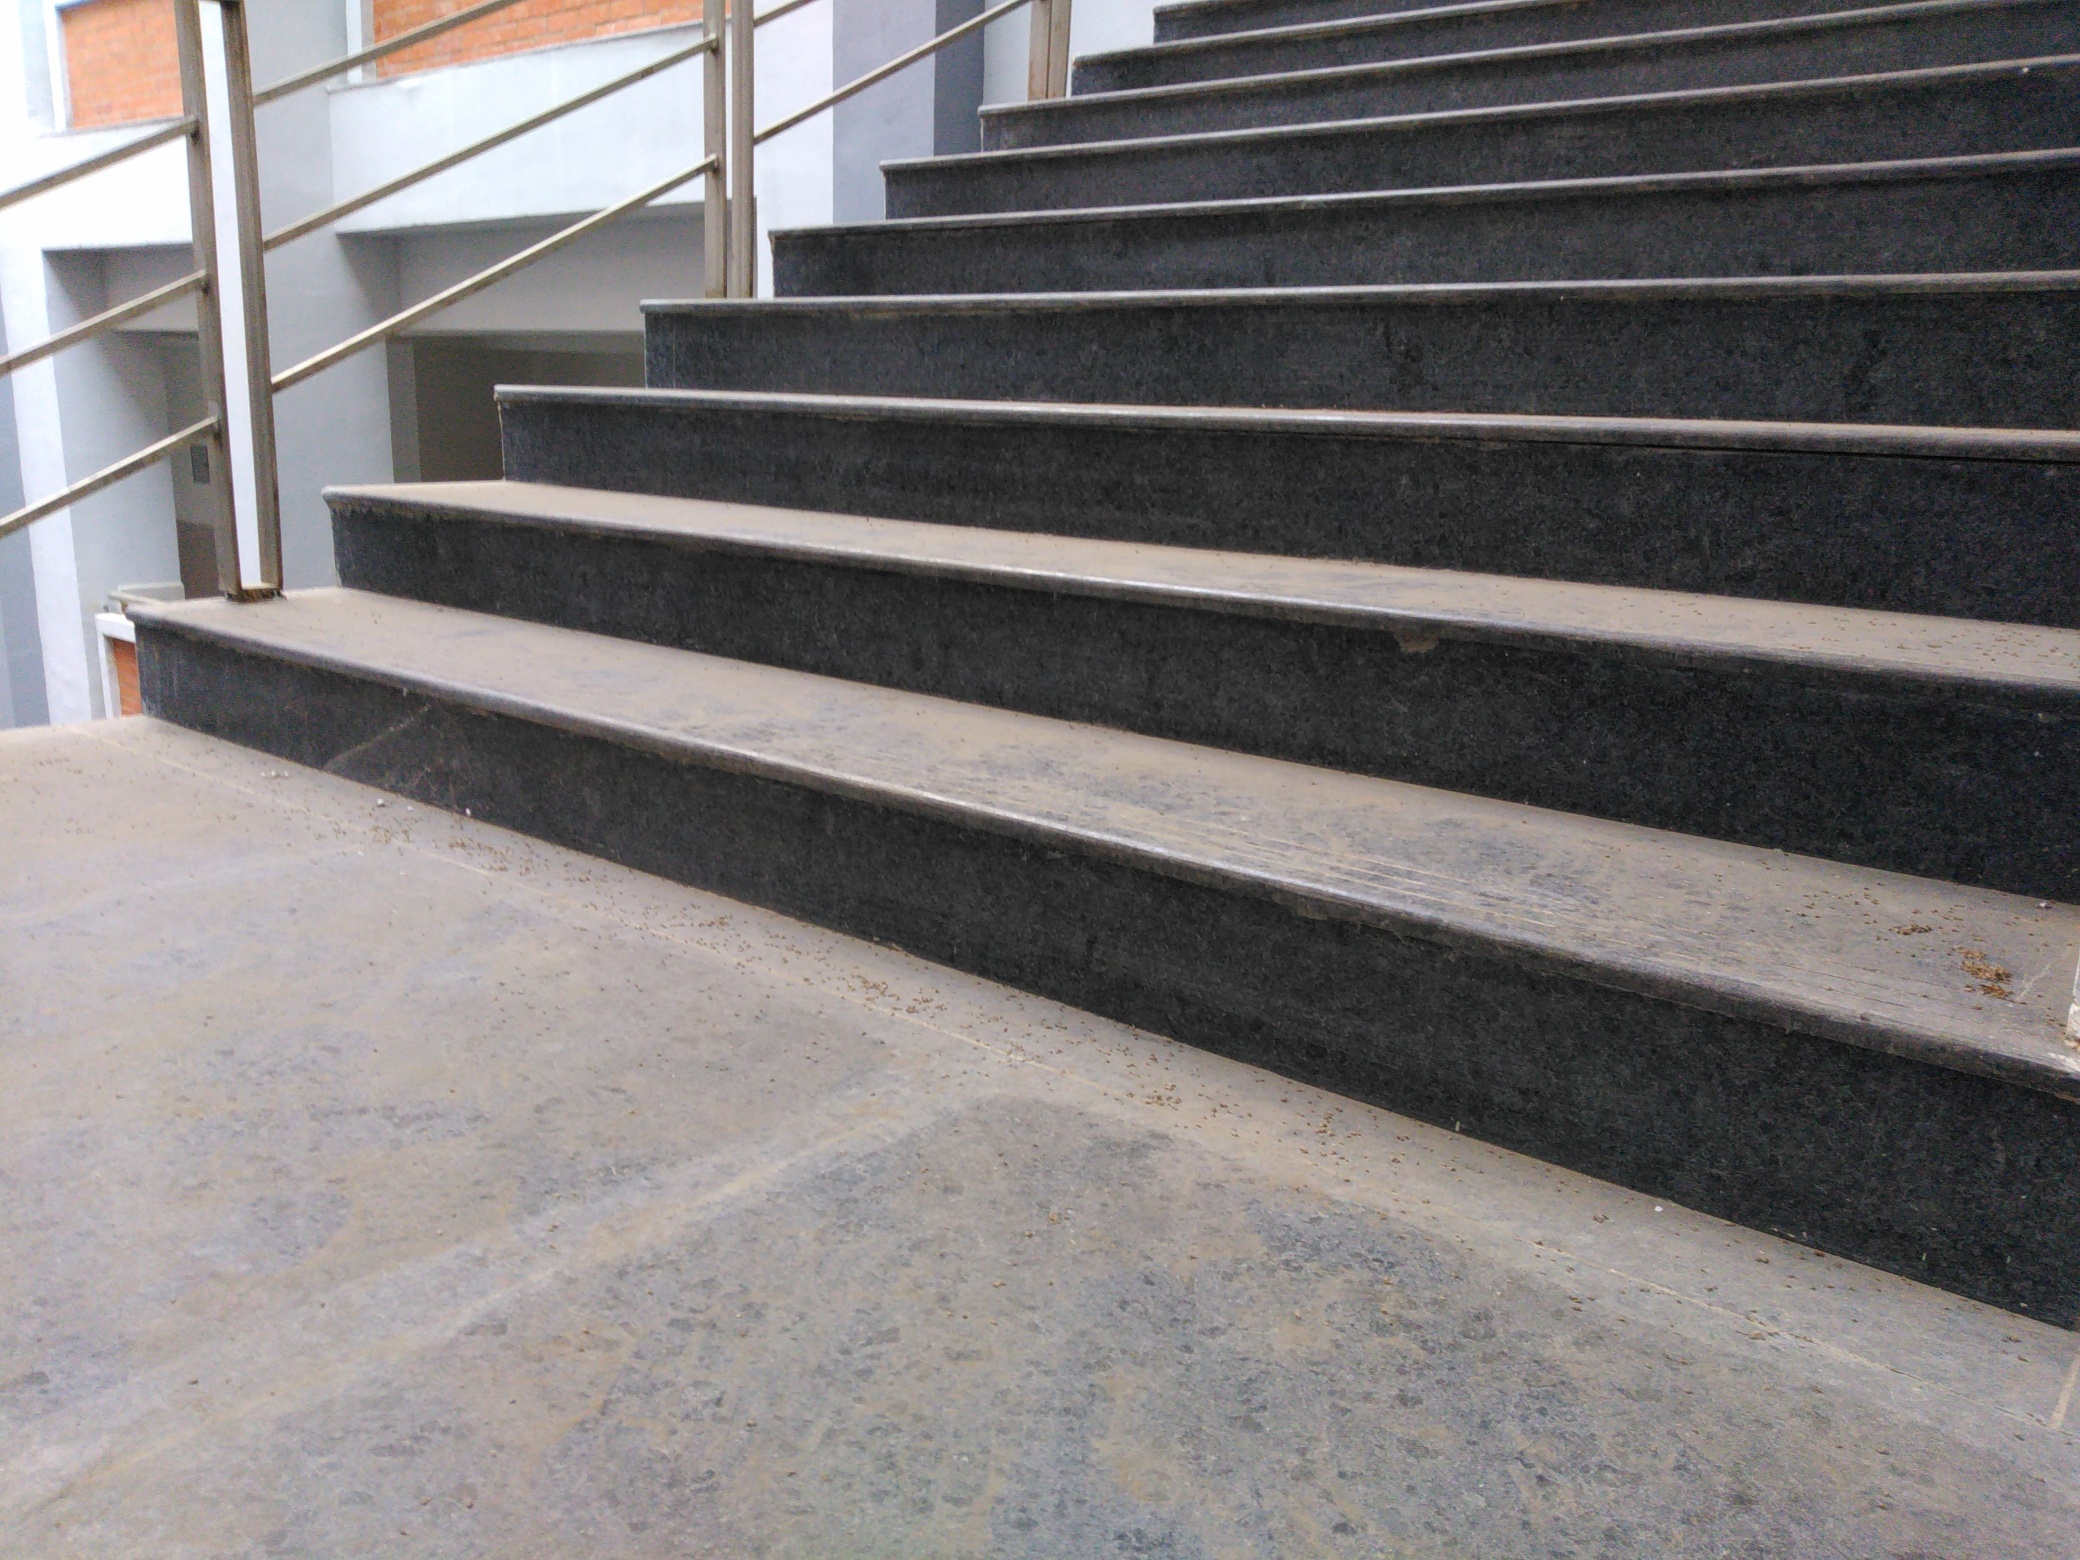stairs_up: (54, 20, 2047, 1044)
